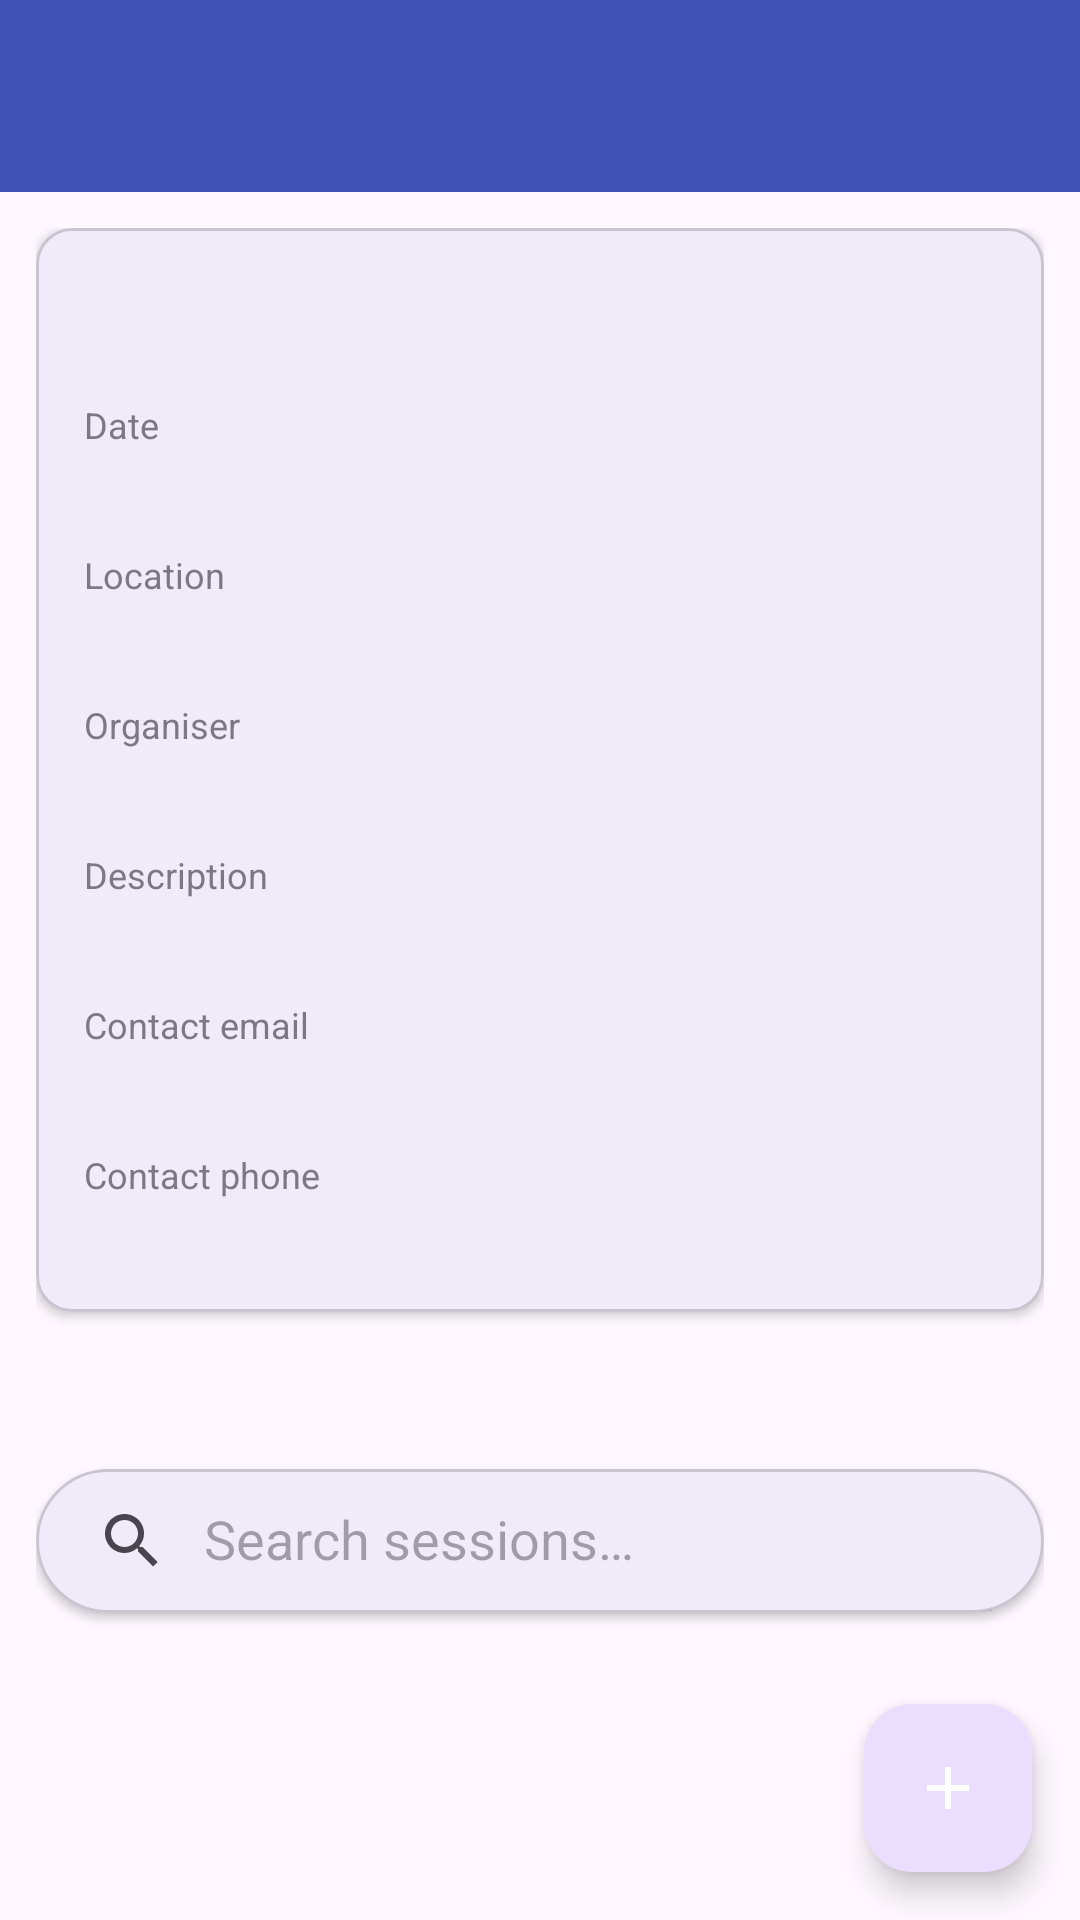

Icons on this 1080*1920 Android screen, each with the point to tap as [x,y]:
Add session: [948,1788]
